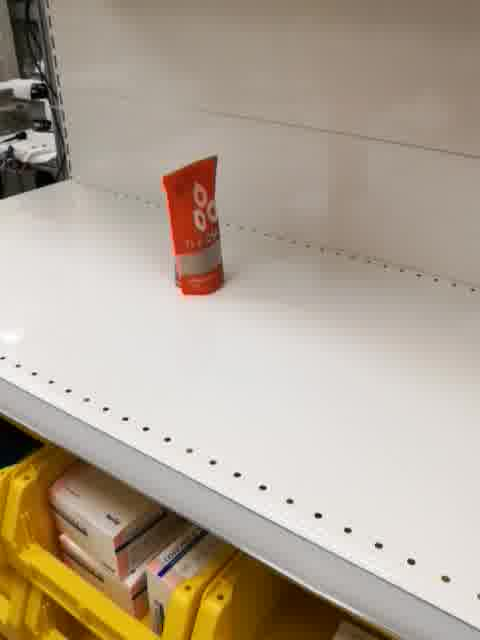whitechia: (160, 151, 227, 298)
